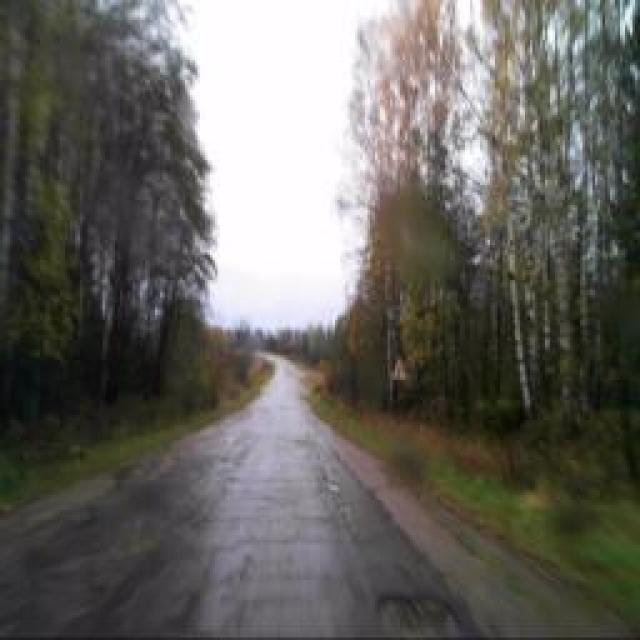sign: (390, 356, 408, 382)
